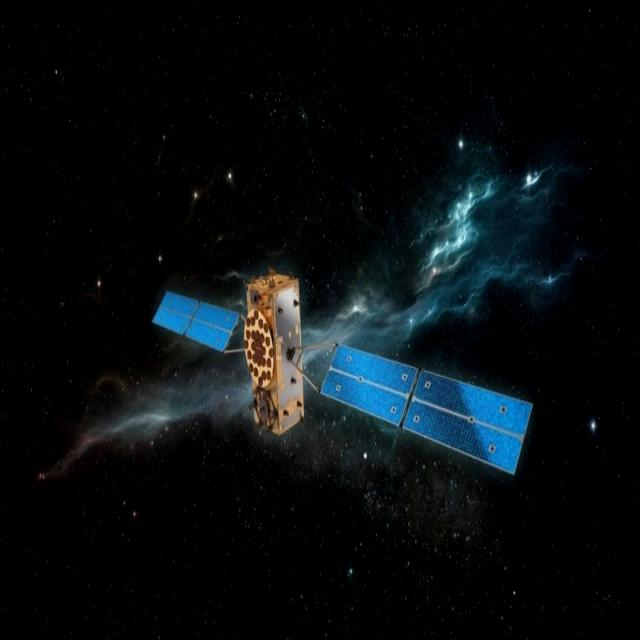medium_debris: (145, 253, 536, 494)
